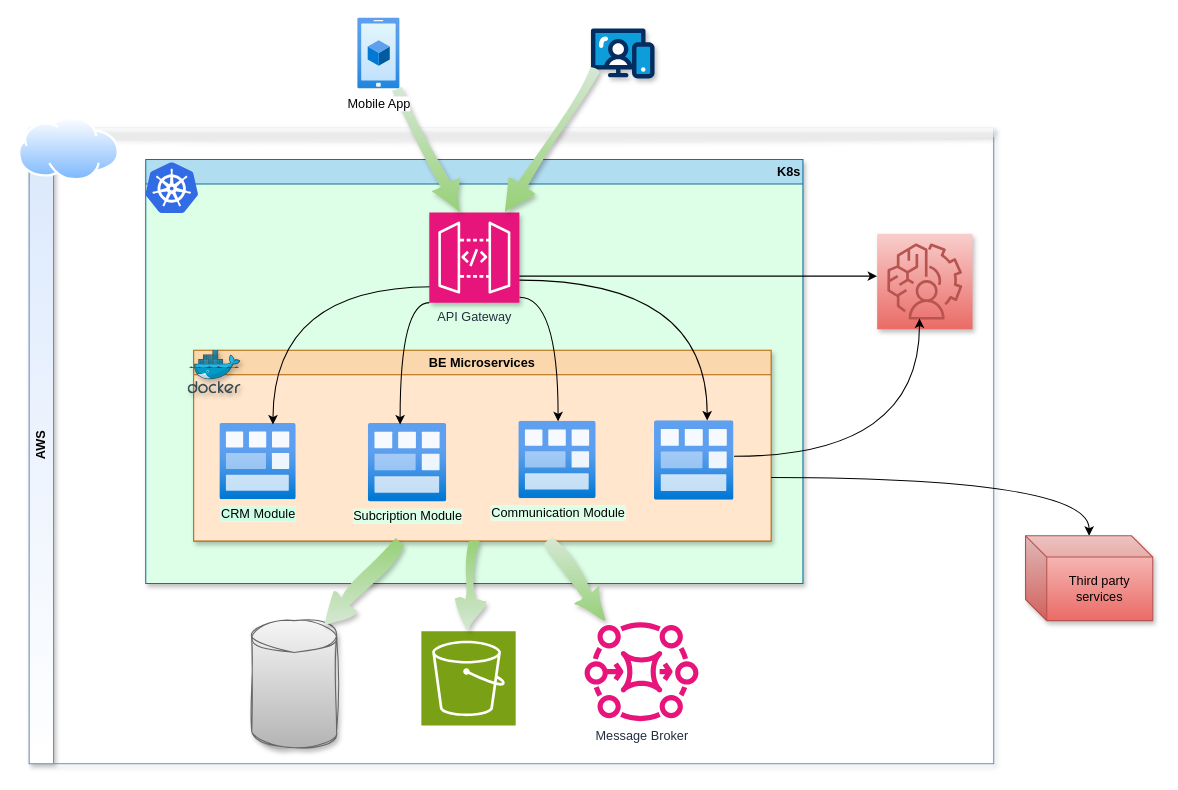
Some shapes in this 1178 by 790 pixel diagram are drawn without their labels. Each missing label, with the centre of its shape:
"AI Model" goes at [925,282].
"Card Module" goes at [694,460].
"Database" goes at [294,685].
"Static resources" goes at [468,678].
"Web app" goes at [623,54].
